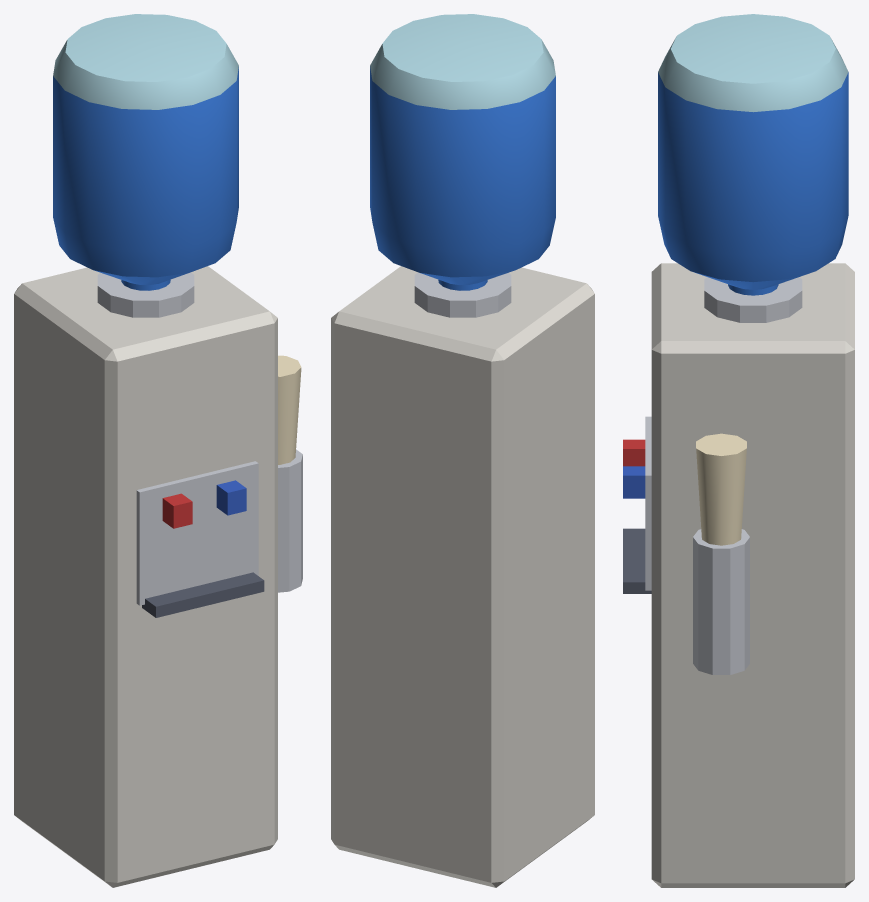
Rendered from water-cooler.glb.
3 views of the same model, side by side, from view 1: azimuth 30°, elevation 25°; view 2: azimuth 150°, elevation 25°; view 3: azimuth 270°, elevation 25° (orthographic).
Visible parts, largest first — view 1: Cooler body, Water bottle, Cooler recess, Cup holder, Bottle collar, Drip tray, Paper cups, Hot tap, Cold tap; view 2: Cooler body, Water bottle, Bottle collar; view 3: Cooler body, Water bottle, Cup holder, Paper cups, Bottle collar, Drip tray, Cooler recess, Cold tap, Hot tap.
Boxes of the visible parts, box(x1,y1,x2,y2) form: Cooler body: box(14, 266, 277, 887); Water bottle: box(53, 14, 238, 290); Cooler recess: box(136, 461, 258, 605); Cup holder: box(278, 449, 302, 592); Bottle collar: box(97, 272, 194, 317); Drip tray: box(142, 572, 264, 617); Paper cups: box(278, 355, 301, 464); Hot tap: box(162, 493, 192, 528); Cold tap: box(216, 480, 246, 515); Cooler body: box(331, 266, 594, 887); Water bottle: box(370, 14, 555, 290); Bottle collar: box(414, 272, 511, 317); Cooler body: box(651, 263, 854, 887); Water bottle: box(658, 14, 848, 295); Cup holder: box(693, 529, 749, 674); Paper cups: box(696, 433, 746, 545); Bottle collar: box(704, 277, 802, 322); Drip tray: box(623, 528, 651, 593); Cooler recess: box(645, 416, 651, 590); Cold tap: box(623, 466, 645, 498); Hot tap: box(623, 439, 645, 466).
Bounding box in the file's own units: 0.4128 × 1.4 × 0.365.
